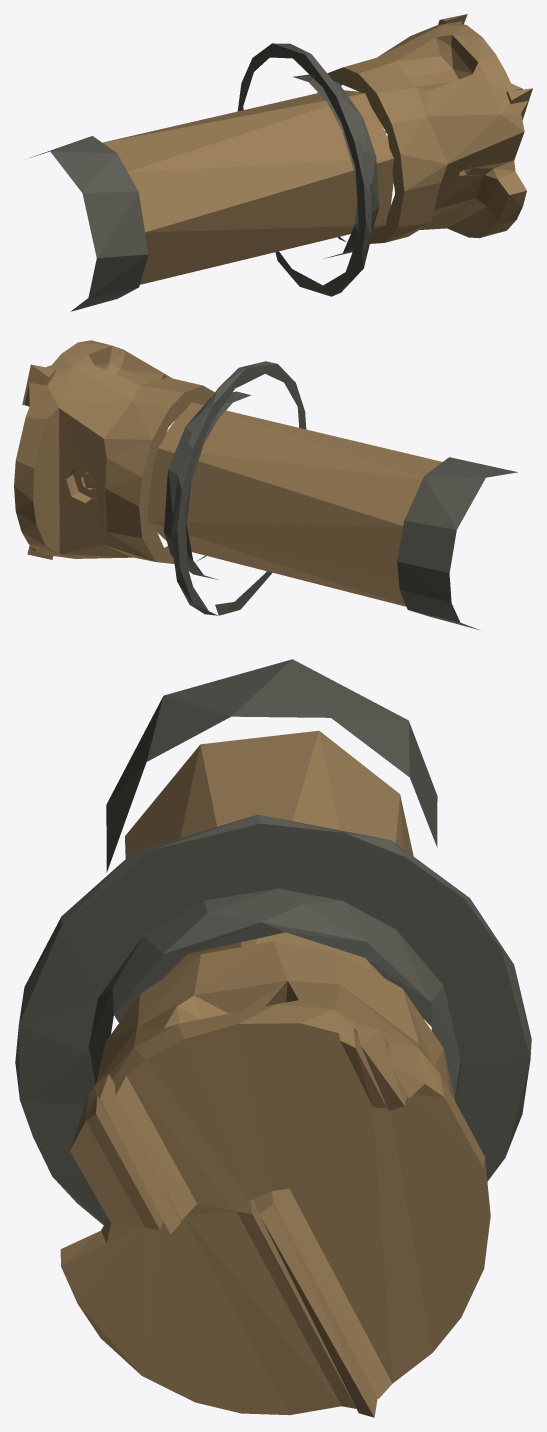
File: LaunchBitInTurretAtZeroFeed.gltf
3 views of the same model, one above another, from view 1: azimuth 30°, elevation 25°; view 2: azimuth 150°, elevation 25°; view 3: azimuth 270°, elevation 25° (orthographic). The views are drawn at different scales.
Parts seen in each view (by area): view 1: Mesh_0; view 2: Mesh_0; view 3: Mesh_0.
Part boxes in pixels (left/top/right/bottom): Mesh_0: left=30, top=14, right=532, bottom=311; Mesh_0: left=14, top=340, right=517, bottom=629; Mesh_0: left=15, top=659, right=531, bottom=1417.
Bounding box in the file's own units: 0.1107 × 0.0574 × 0.0569.
Materials: 1 (1 with a texture image).
